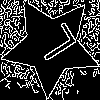L: (26, 21, 78, 69)
